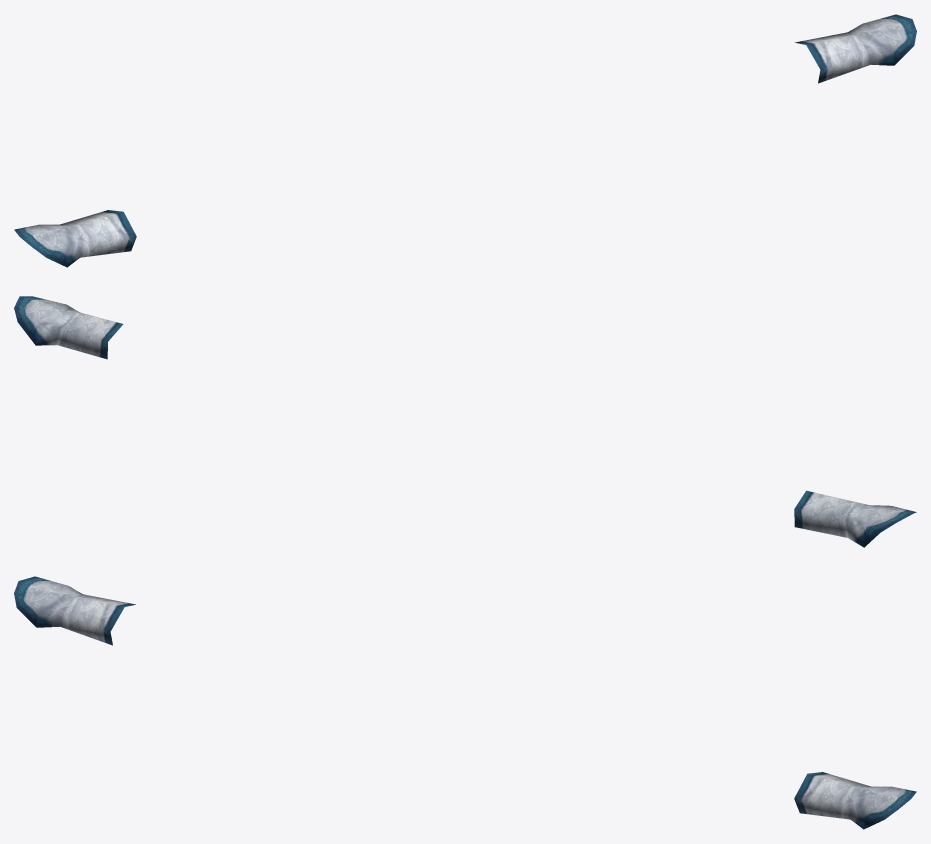
File: clothes_01_aa.glb
The picture shows the model from 3 angles, top to bottom: view 1: azimuth 30°, elevation 25°; view 2: azimuth 150°, elevation 25°; view 3: azimuth 330°, elevation 25°; orthographic projection.
Visible parts, largest first — view 1: clothes_01_aa; view 2: clothes_01_aa; view 3: clothes_01_aa.
Part boxes in pixels (left/top/right/bottom): clothes_01_aa: left=14, top=14, right=916, bottom=267; clothes_01_aa: left=14, top=296, right=916, bottom=547; clothes_01_aa: left=14, top=576, right=916, bottom=829.
Bounding box in the file's own units: 1.33 × 0.0536 × 0.0819.
1 material, 1 textured.
